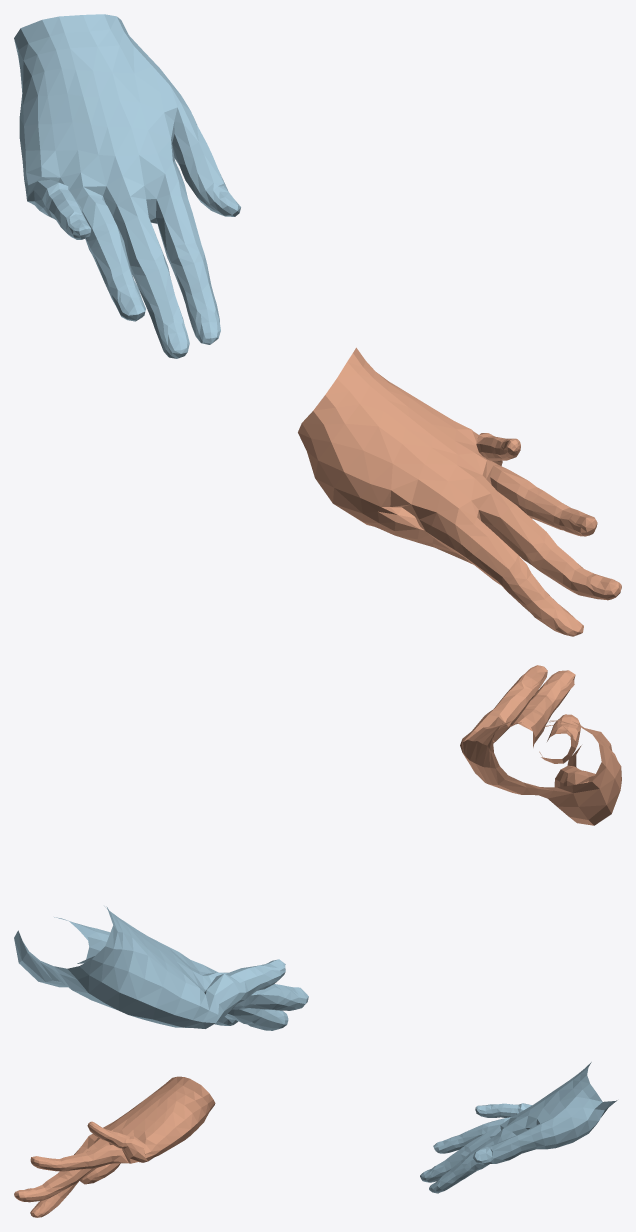
File: frame_039.glb
3 renders of one model, top to bottom at view 1: azimuth 30°, elevation 25°; view 2: azimuth 150°, elevation 25°; view 3: azimuth 270°, elevation 25°, orthographic. The views are drawn at different scales.
Visible parts, largest first — view 1: world; view 2: world; view 3: world.
Part boxes in pixels (x1=…): world: x1=14, y1=14, x2=621, y2=636; world: x1=14, y1=665, x2=621, y2=1030; world: x1=14, y1=1062, x2=617, y2=1217.
Size of the model in its own units: 0.1071 by 0.1251 by 0.4592.
